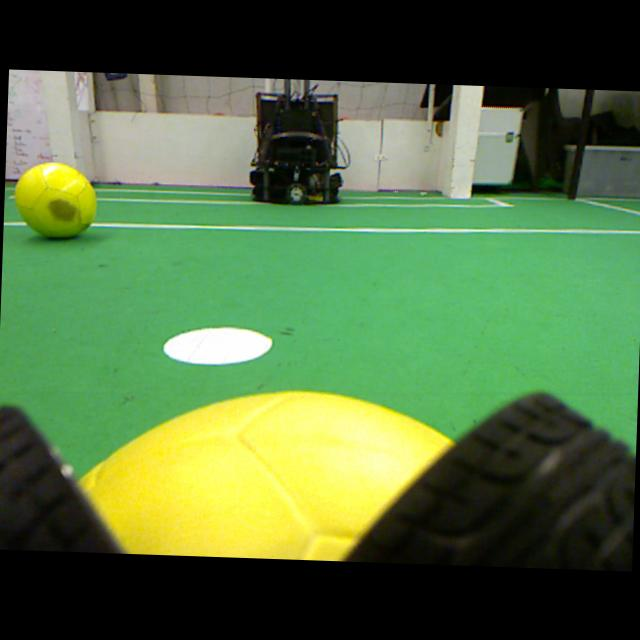ball: (76, 392, 454, 560), (15, 163, 96, 237)
goal: (451, 85, 482, 198), (41, 70, 76, 170)
robot: (249, 79, 347, 205)
